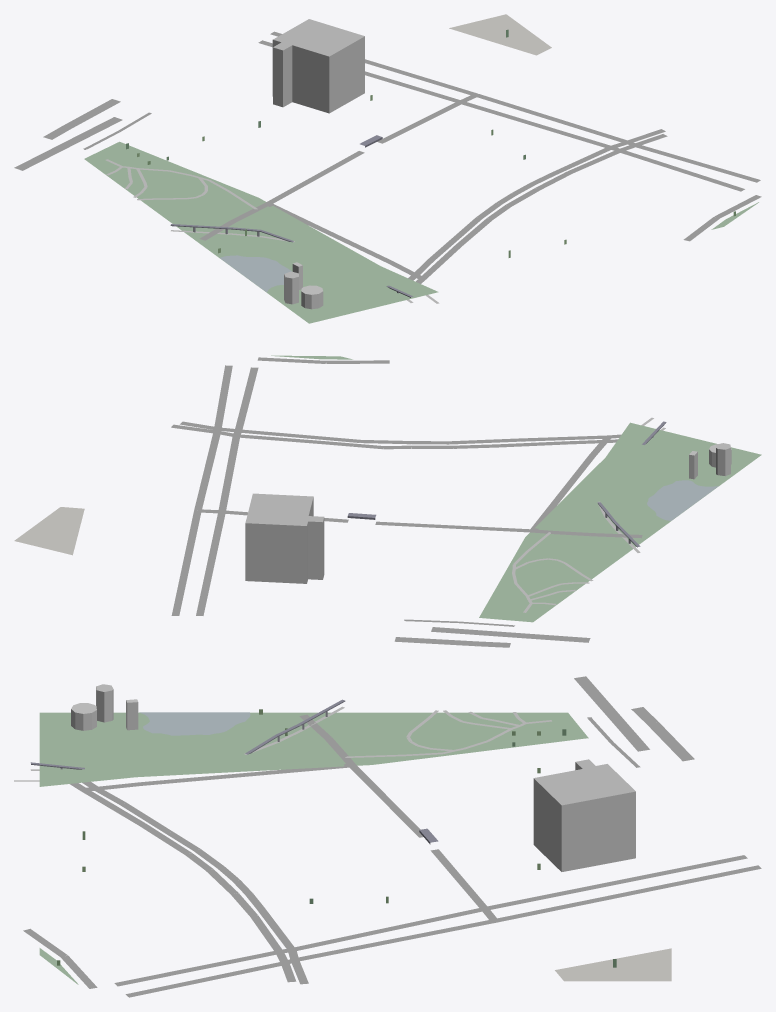
The picture shows the model from 3 angles, top to bottom: view 1: azimuth 30°, elevation 25°; view 2: azimuth 150°, elevation 25°; view 3: azimuth 270°, elevation 25°; orthographic projection. The views are drawn at different scales.
Bounding box in the file's own units: 592 × 62.56 × 592.
